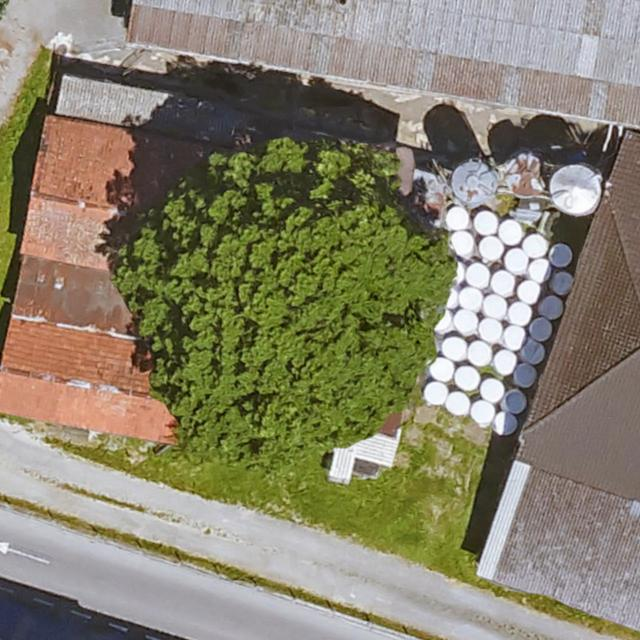tree: (111, 137, 458, 460)
